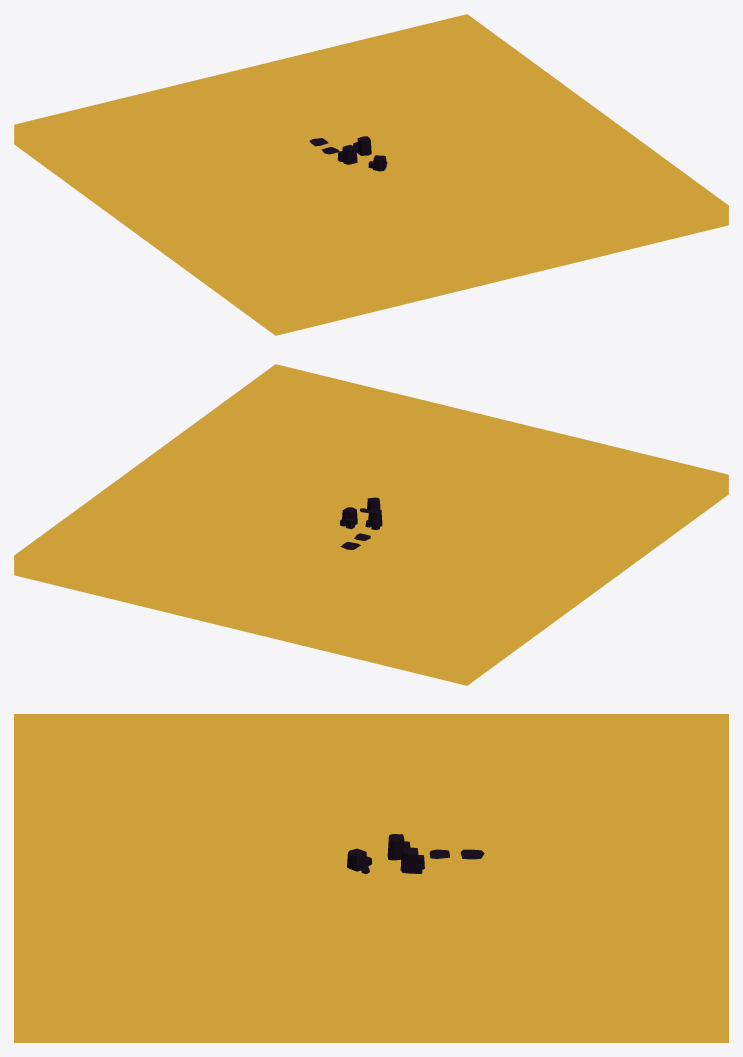
Rendered from Lava.fbx.
3 views of the same model, one above another, from view 1: azimuth 30°, elevation 25°; view 2: azimuth 150°, elevation 25°; view 3: azimuth 270°, elevation 25° (orthographic). The views are drawn at different scales.
Visible parts, largest first — view 1: Plane.027; view 2: Plane.027; view 3: Plane.027.
Part boxes in pixels (box(x1,y1,x2,y2)): Plane.027: box(14, 14, 728, 335); Plane.027: box(14, 364, 728, 685); Plane.027: box(14, 714, 728, 1042).
Bounding box in the file's own units: 31972 × 2264 × 31972.
